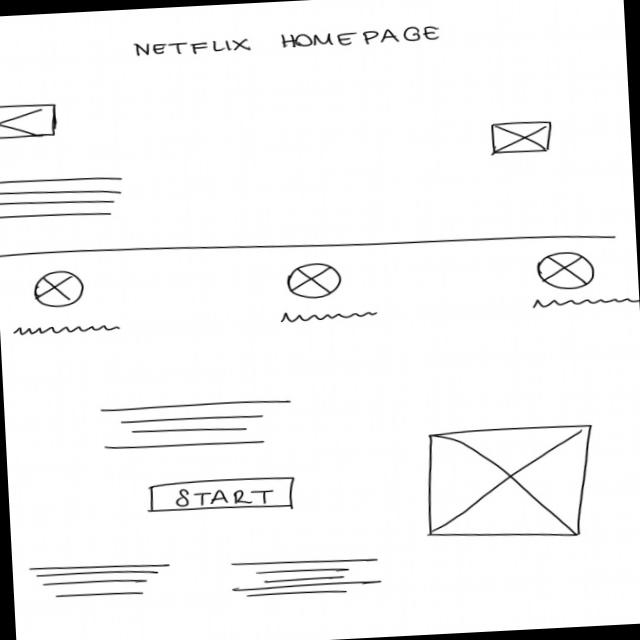button: (145, 474, 297, 517)
image: (422, 422, 599, 545), (536, 249, 598, 293), (487, 118, 554, 158), (284, 261, 343, 301), (0, 100, 57, 141), (30, 268, 86, 309)
label: (130, 24, 444, 59)
text: (529, 291, 640, 313), (277, 306, 382, 326), (12, 321, 122, 338)
textbox: (97, 395, 296, 454), (222, 550, 387, 604), (27, 556, 176, 604), (0, 171, 127, 223)
